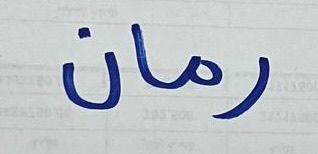alef: (124, 16, 158, 95)
meem: (160, 44, 223, 94)
noon: (57, 23, 122, 113)
reh: (226, 50, 276, 125)
